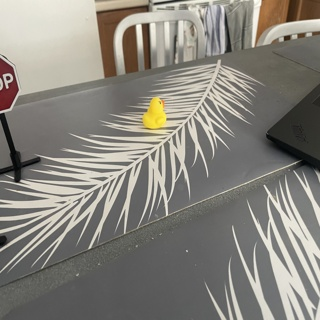duck_regular: (141, 97, 165, 128)
